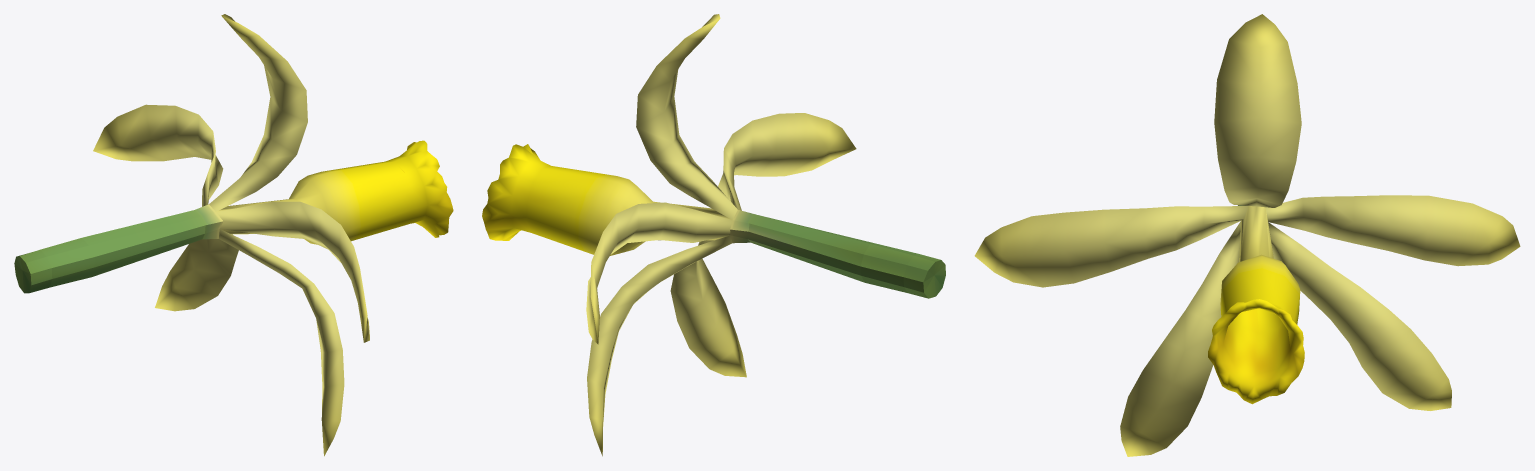
The model's file is VanillaOrchid.fbx.
3 renders of one model, left to right at view 1: azimuth 30°, elevation 25°; view 2: azimuth 150°, elevation 25°; view 3: azimuth 270°, elevation 25°, orthographic. The views are drawn at different scales.
Parts seen in each view (by area): view 1: VanillaOrchid; view 2: VanillaOrchid; view 3: VanillaOrchid.
Part boxes in pixels (left/top/right/bottom): VanillaOrchid: left=14, top=14, right=453, bottom=456; VanillaOrchid: left=482, top=14, right=945, bottom=456; VanillaOrchid: left=974, top=14, right=1520, bottom=456.
Size of the model in its own units: 10.34 by 9.56 by 11.18.
